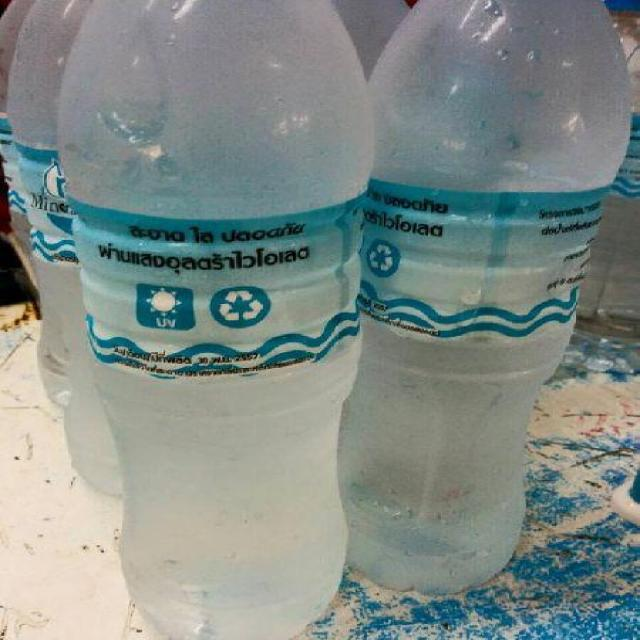bottle: (51, 0, 383, 640), (317, 0, 640, 609), (4, 0, 298, 499), (0, 0, 240, 415), (277, 0, 453, 478)
